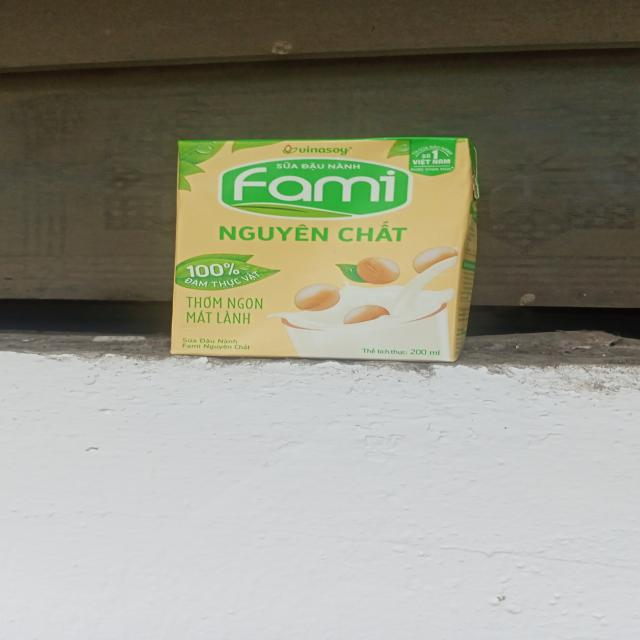Fami: (168, 137, 484, 363)
